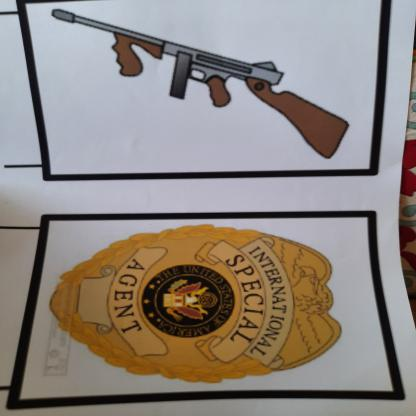Bootlegger: (45, 1, 366, 164)
G-man: (48, 223, 350, 388)
